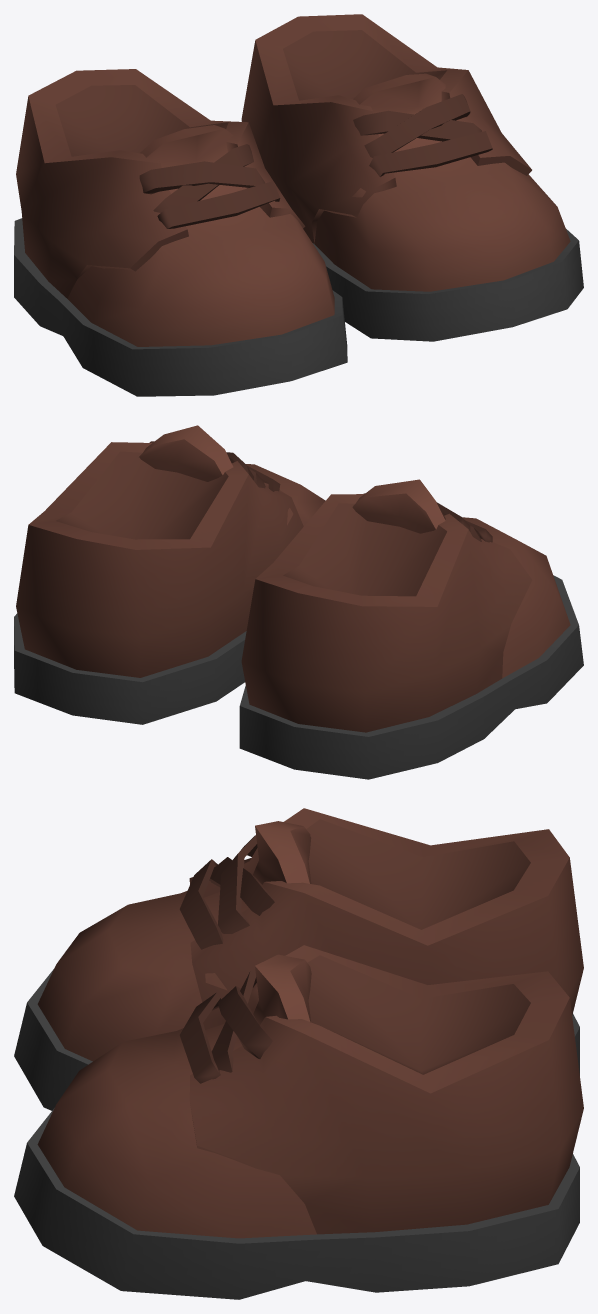
The model's file is Shoes_15.fbx.
3 renders of one model, top to bottom at view 1: azimuth 30°, elevation 25°; view 2: azimuth 150°, elevation 25°; view 3: azimuth 270°, elevation 25°, orthographic. The views are drawn at different scales.
Parts seen in each view (by area): view 1: Shoes_15; view 2: Shoes_15; view 3: Shoes_15.
Part boxes in pixels (<box>): Shoes_15: <box>14,14,583,396</box>; Shoes_15: <box>14,425,583,779</box>; Shoes_15: <box>14,808,583,1299</box>.
Size of the model in its own units: 42.52 by 17.4 by 34.92.
